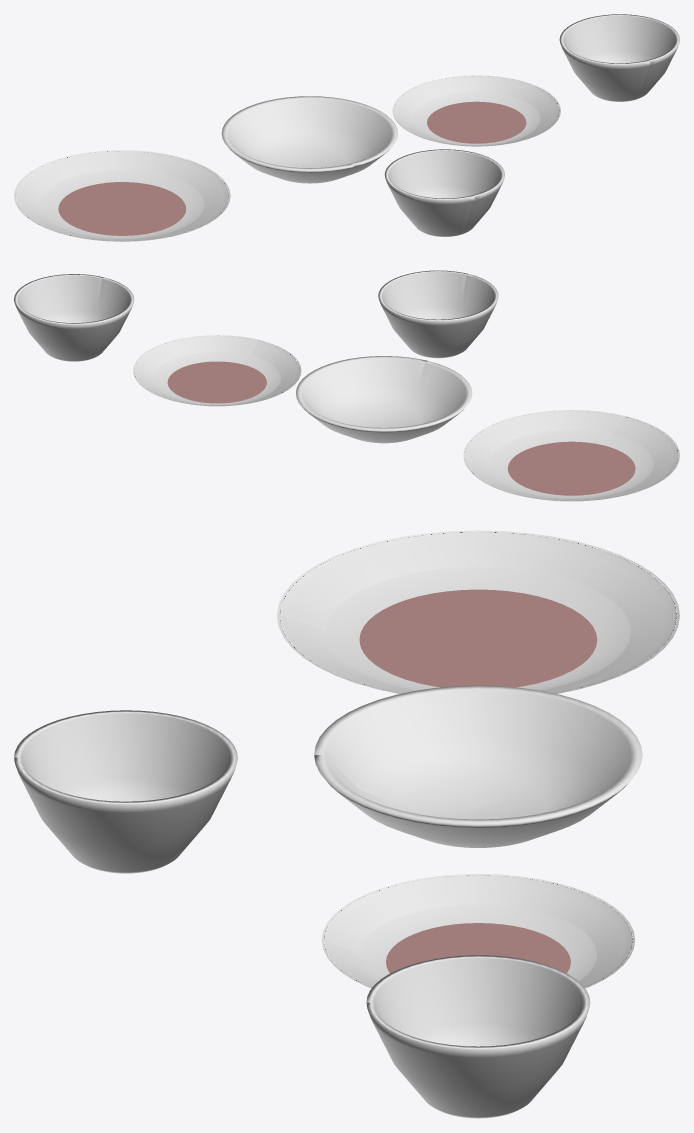
File: RAY-06.glb
The picture shows the model from 3 angles, top to bottom: view 1: azimuth 30°, elevation 25°; view 2: azimuth 150°, elevation 25°; view 3: azimuth 270°, elevation 25°; orthographic projection. The views are drawn at different scales.
Bounding box in the file's own units: 0.926 × 0.07 × 0.446.
